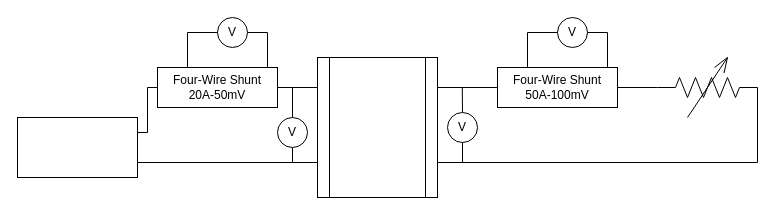
Image size: 776x215. Some labels were removed from this diagram. The shapes that lost their labels are listed below. From the top down, each one's centre as x and y in pixels, then its label:
At pixel 707 87: "Load".
At pixel 77 147: "345V-404V Power supplay".
At pixel 377 127: "LLC".
